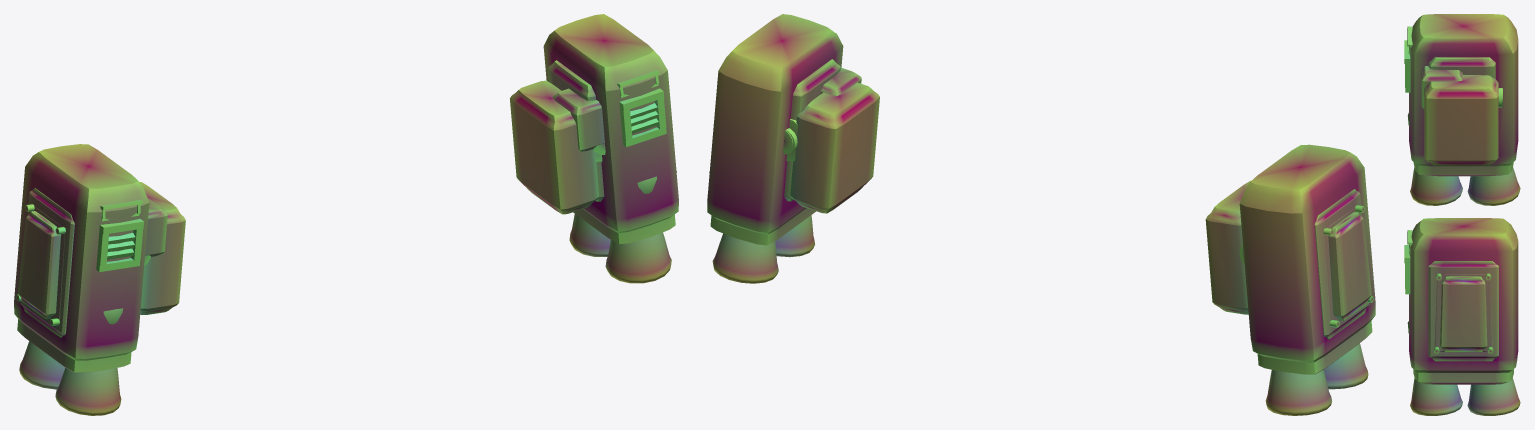
Rendered from llm_gen_leg_thrusters_049_83320f.glb.
3 views of the same model, side by side, from view 1: azimuth 30°, elevation 25°; view 2: azimuth 150°, elevation 25°; view 3: azimuth 270°, elevation 25° (orthographic). The views are drawn at different scales.
Parts seen in each view (by area): view 1: hover_cowling_armor_1_barrel_metal_l, hover_cowling_armor_1_barrel_metal_r, adapter_calf_clamp_r, hover_flank_panel_5_adapter_dark_l, adapter_calf_clamp_l, hover_bell_fwd_7_vernier_bell_vernier_l, hover_bell_fwd_7_vernier_bell_vernier_r, adapter_sub_hover_flank_dark_4_adapter_dark_l, adapter_leg_knee_mount_dark_9_adapter_dark_r, adapter_sub_hover_manifold_dark_6_adapter_dark_l, adapter_sub_hover_intake_grille_2_dark_r, adapter_sub_hover_intake_grille_2_dark_l (+7 smaller); view 2: hover_cowling_armor_1_barrel_metal_l, hover_cowling_armor_1_barrel_metal_r, adapter_calf_clamp_r, hover_flank_panel_5_adapter_dark_l, adapter_calf_clamp_l, hover_bell_aft_8_vernier_bell_vernier_l, hover_bell_aft_8_vernier_bell_vernier_r, adapter_sub_hover_flank_dark_4_adapter_dark_l, adapter_sub_hover_manifold_dark_6_adapter_dark_l, hover_core_mount_0_adapter_dark_r, hover_bell_fwd_7_vernier_bell_vernier_l, adapter_sub_hover_manifold_dark_6_adapter_dark_r (+2 smaller); view 3: hover_cowling_armor_1_barrel_metal_r, hover_cowling_armor_1_barrel_metal_l, adapter_calf_clamp_l, hover_flank_panel_5_adapter_dark_r, adapter_sub_hover_flank_dark_4_adapter_dark_r, hover_bell_aft_8_vernier_bell_vernier_r, hover_bell_fwd_7_vernier_bell_vernier_r, hover_bell_aft_8_vernier_bell_vernier_l, hover_bell_fwd_7_vernier_bell_vernier_l, adapter_sub_hover_manifold_dark_6_adapter_dark_r, hover_core_mount_0_adapter_dark_l, adapter_sub_hover_manifold_dark_6_adapter_dark_l (+4 smaller).
Boxes of the visible parts, x1,y1,x2,y2 form: hover_cowling_armor_1_barrel_metal_l: (14, 144, 149, 360); hover_cowling_armor_1_barrel_metal_r: (543, 14, 678, 233); adapter_calf_clamp_r: (510, 80, 602, 214); hover_flank_panel_5_adapter_dark_l: (16, 204, 65, 325); adapter_calf_clamp_l: (139, 182, 185, 314); hover_bell_fwd_7_vernier_bell_vernier_l: (55, 367, 121, 415); hover_bell_fwd_7_vernier_bell_vernier_r: (605, 232, 671, 283); adapter_sub_hover_flank_dark_4_adapter_dark_l: (20, 188, 74, 337); adapter_leg_knee_mount_dark_9_adapter_dark_r: (552, 88, 604, 151); adapter_sub_hover_manifold_dark_6_adapter_dark_l: (17, 319, 131, 372); adapter_sub_hover_intake_grille_2_dark_r: (619, 88, 666, 147); adapter_sub_hover_intake_grille_2_dark_l: (96, 219, 143, 271); hover_cowling_armor_1_barrel_metal_l: (1239, 144, 1375, 362); hover_cowling_armor_1_barrel_metal_r: (707, 14, 843, 234); adapter_calf_clamp_r: (786, 82, 879, 213); hover_flank_panel_5_adapter_dark_l: (1323, 205, 1373, 327); adapter_calf_clamp_l: (1205, 180, 1251, 314); hover_bell_aft_8_vernier_bell_vernier_l: (1265, 370, 1331, 415); hover_bell_aft_8_vernier_bell_vernier_r: (712, 233, 778, 283); adapter_sub_hover_flank_dark_4_adapter_dark_l: (1314, 189, 1369, 339); adapter_sub_hover_manifold_dark_6_adapter_dark_l: (1257, 320, 1372, 374); hover_core_mount_0_adapter_dark_r: (784, 59, 840, 201); hover_bell_fwd_7_vernier_bell_vernier_l: (1323, 343, 1368, 389); adapter_sub_hover_manifold_dark_6_adapter_dark_r: (710, 208, 815, 245); hover_cowling_armor_1_barrel_metal_r: (1409, 218, 1518, 372); hover_cowling_armor_1_barrel_metal_l: (1409, 14, 1518, 166); adapter_calf_clamp_l: (1424, 75, 1498, 165); hover_flank_panel_5_adapter_dark_r: (1434, 273, 1493, 353); adapter_sub_hover_flank_dark_4_adapter_dark_r: (1428, 261, 1498, 361); hover_bell_aft_8_vernier_bell_vernier_r: (1467, 378, 1520, 415); hover_bell_fwd_7_vernier_bell_vernier_r: (1410, 378, 1462, 415); hover_bell_aft_8_vernier_bell_vernier_l: (1467, 167, 1520, 205); hover_bell_fwd_7_vernier_bell_vernier_l: (1410, 168, 1462, 205); adapter_sub_hover_manifold_dark_6_adapter_dark_r: (1413, 369, 1513, 384); hover_core_mount_0_adapter_dark_l: (1428, 57, 1495, 79); adapter_sub_hover_manifold_dark_6_adapter_dark_l: (1413, 163, 1513, 176).
Bounding box in the file's own units: 85.38 × 29.02 × 17.12.
